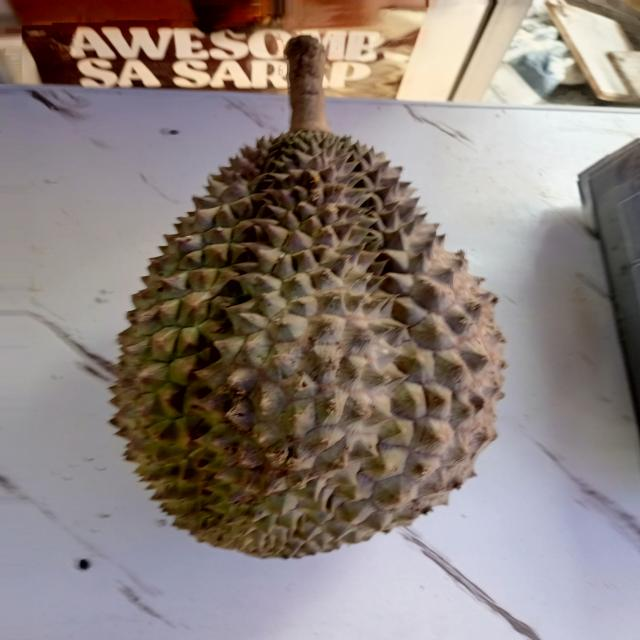mature: (113, 132, 506, 557)
